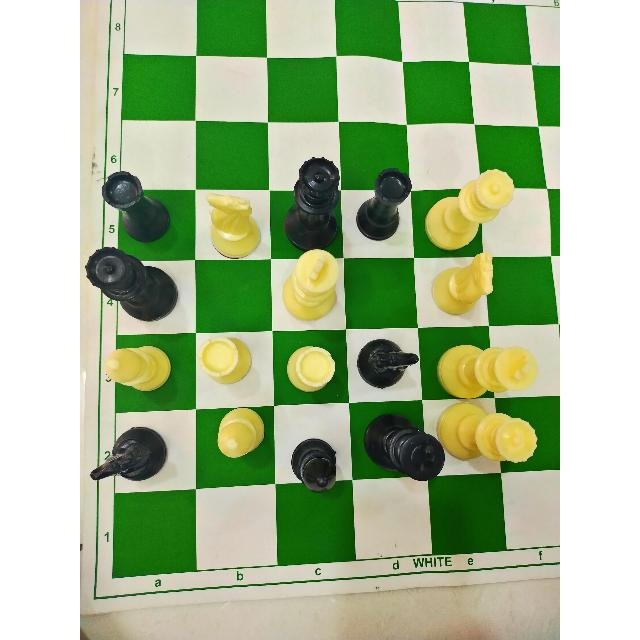black-bishop: (290, 437, 337, 494)
black-king: (362, 412, 446, 482)
black-knight: (91, 426, 167, 483), (356, 337, 419, 389)
black-queen: (85, 245, 179, 322), (281, 156, 344, 252)
black-rook: (101, 170, 173, 244), (355, 166, 413, 243)
white-bishop: (104, 344, 172, 392), (215, 404, 267, 462)
white-king: (435, 342, 538, 401), (282, 247, 341, 323)
white-knight: (430, 250, 495, 316), (204, 189, 262, 259)
white-queen: (422, 168, 515, 252), (436, 402, 538, 463)
white-rook: (196, 334, 253, 385), (285, 344, 337, 393)
